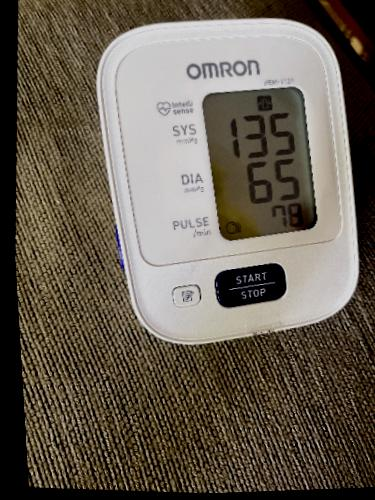bpm: (197, 78, 325, 244)
